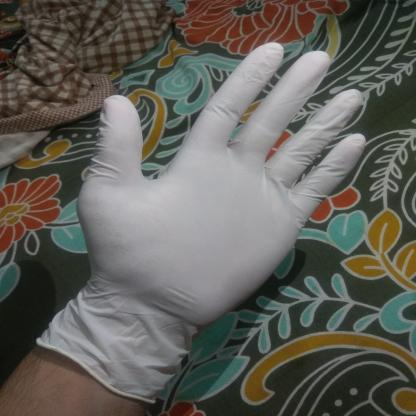gloved_hand: (29, 42, 369, 407)
